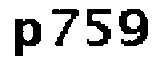5: (83, 7, 115, 50)
7: (48, 5, 80, 49)
9: (116, 8, 150, 53)
p: (12, 17, 44, 60)
